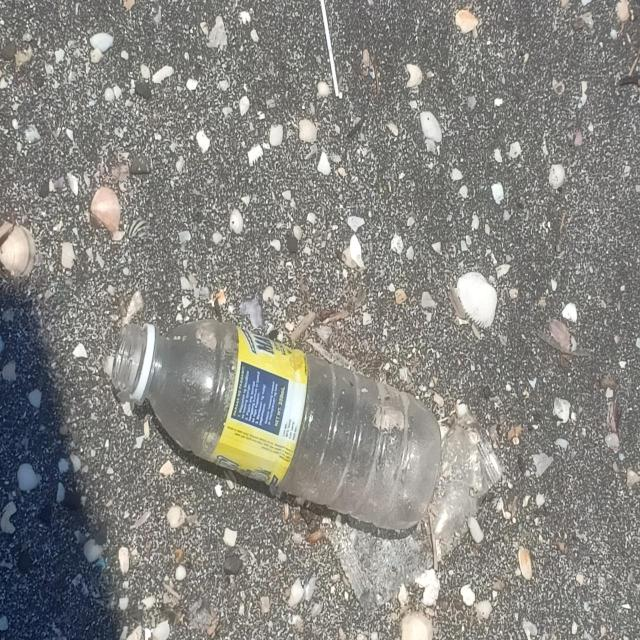plastic_waste: (111, 317, 444, 535)
